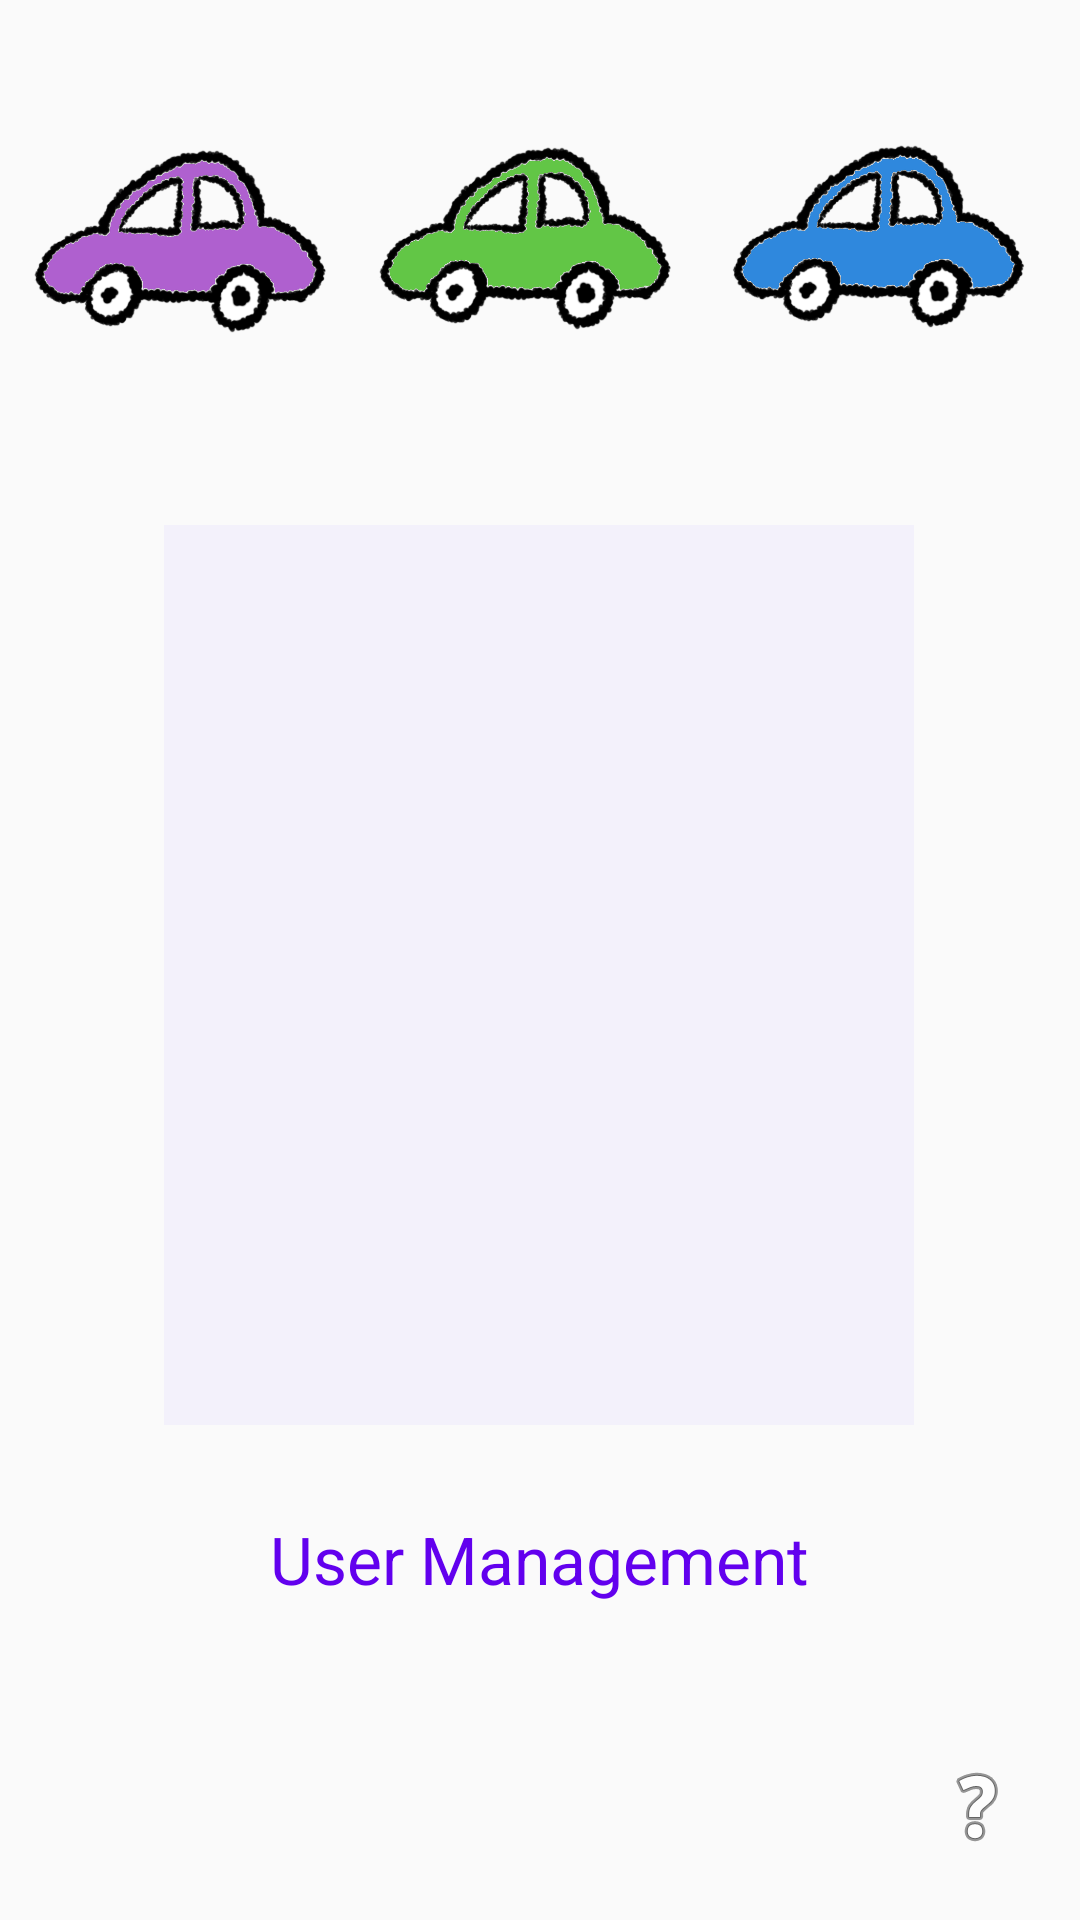

Icons on this 1080 x 1920 Android screen, each with its box as (x1, y1, x2, y2):
help: (956, 1773, 998, 1841)
